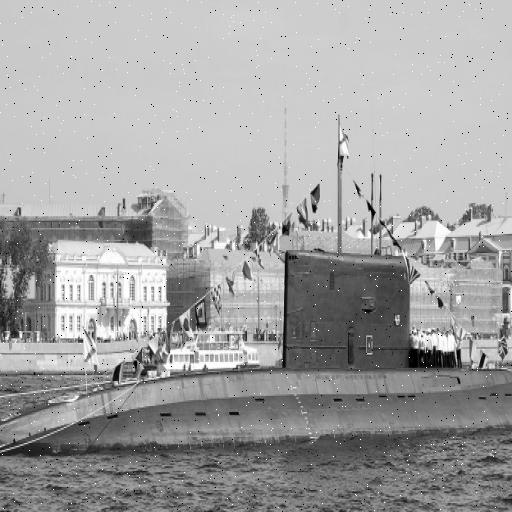submarine: (1, 129, 512, 459)
